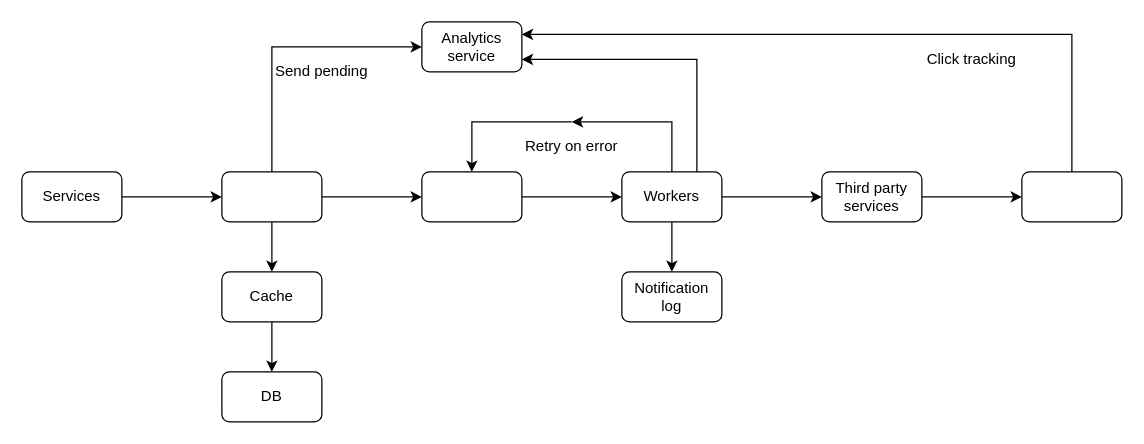
Image size: 1144x444. Some labels were removed from this diagram. The shapes that lost their labels are listed below. From the top down, each one's centre as x and y in pixels, then its label:
point (271, 196): Notification servers
point (471, 196): Message queues
point (1071, 196): Devices
